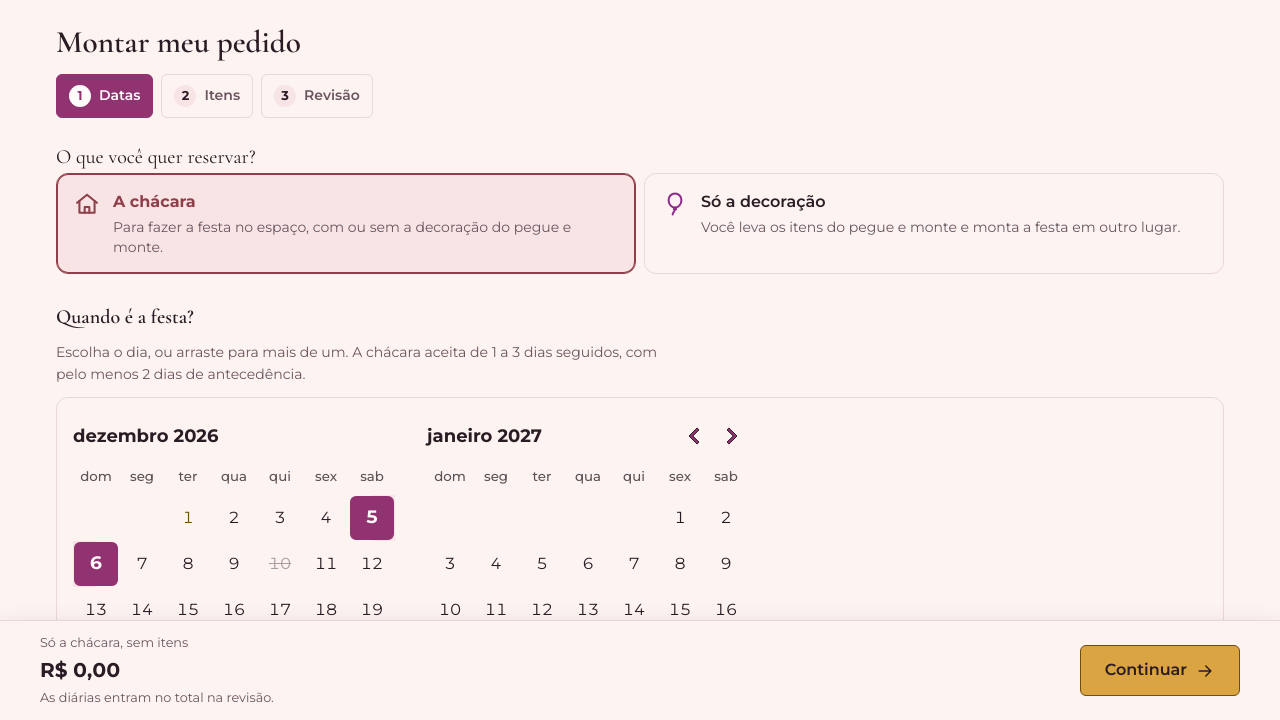
Test: BookingWizard › avança para os itens quando o passo 1 está completo
Expected: the heading "Quando é a festa?" is shown, [56,306,194,330]
Click the button "Continuar". click: coordinates (1160, 671)
box: [1080,645,1240,696]
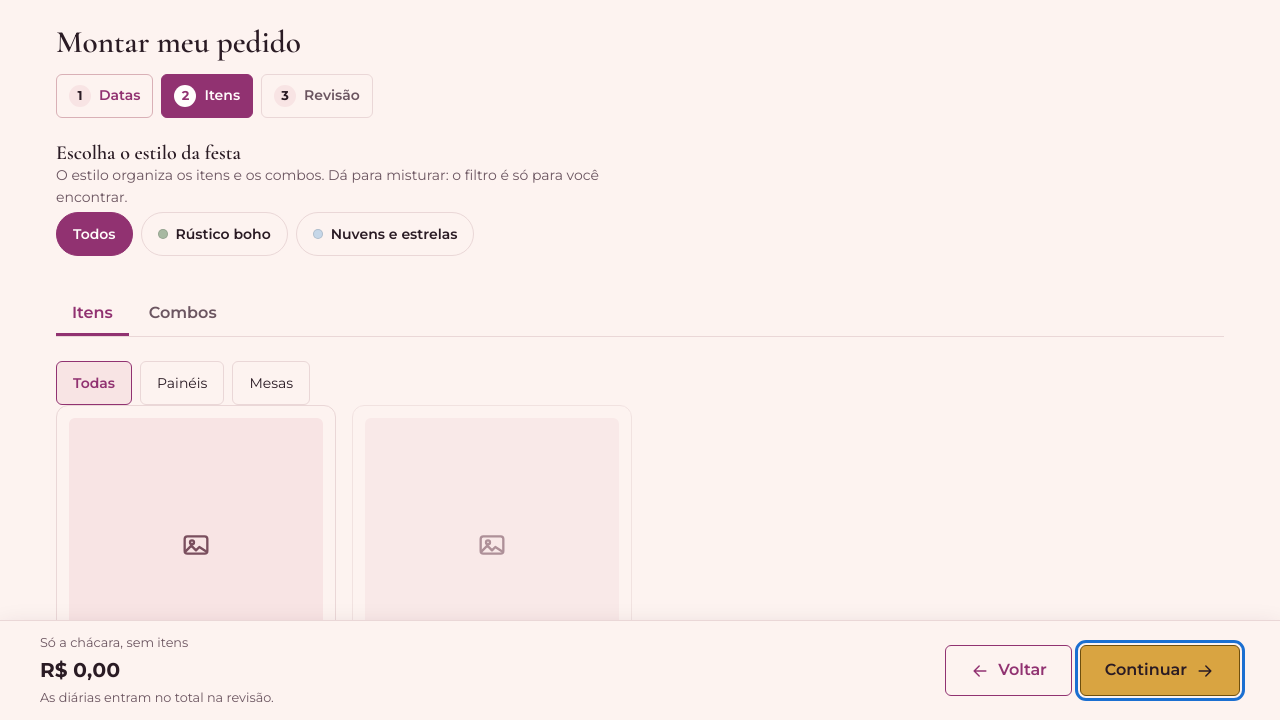
Now the heading "Escolha o estilo da festa" is shown, box [56,140,241,164]
